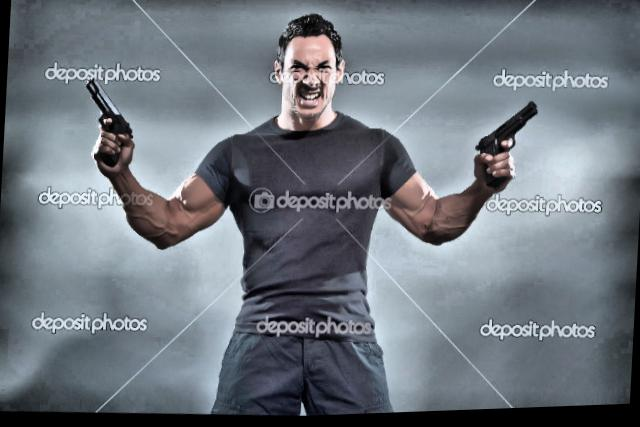pistol: (468, 88, 542, 189), (78, 77, 144, 185)
